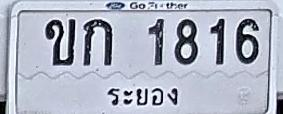1: (148, 18, 164, 66), (210, 18, 224, 65)
6: (236, 18, 258, 64)
8: (174, 19, 198, 64)
A01: (83, 18, 112, 66)
A02: (44, 18, 76, 66)
RYG: (105, 83, 183, 111)
